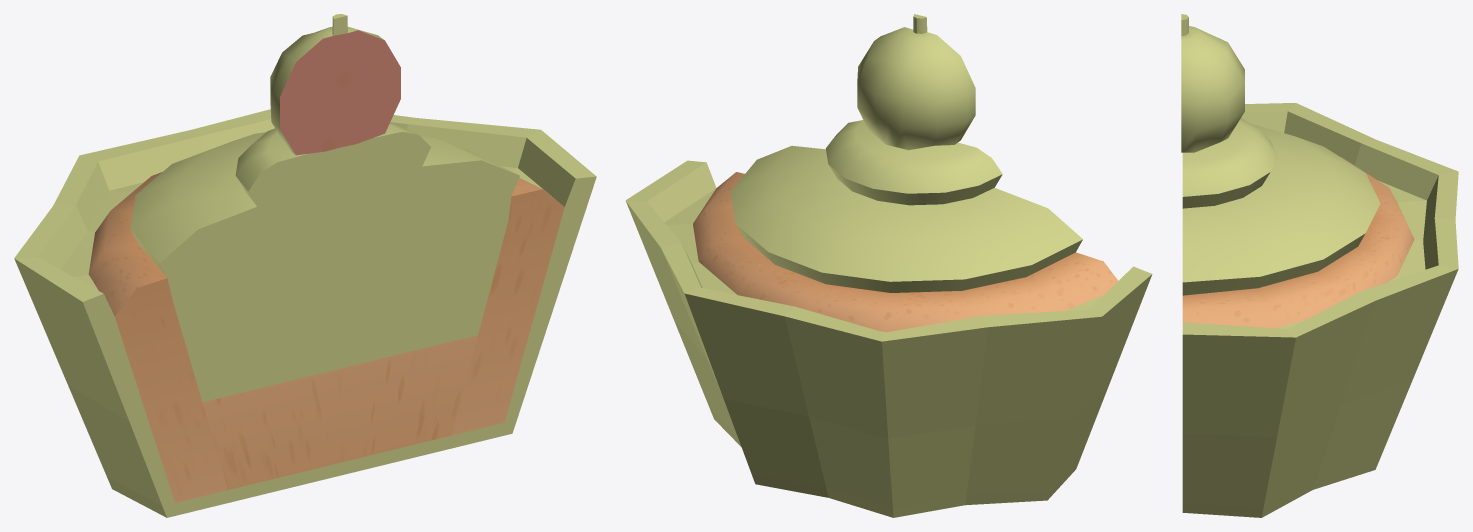
The model's file is cupcake_slice.fbx.
The picture shows the model from 3 angles, left to right: view 1: azimuth 30°, elevation 25°; view 2: azimuth 150°, elevation 25°; view 3: azimuth 270°, elevation 25°; orthographic projection. The views are drawn at different scales.
Parts seen in each view (by area): view 1: cupcake_slice; view 2: cupcake_slice; view 3: cupcake_slice.
Boxes of the visible parts, x1=… form: cupcake_slice: x1=14, y1=14, x2=596, y2=517; cupcake_slice: x1=625, y1=14, x2=1152, y2=517; cupcake_slice: x1=1181, y1=14, x2=1458, y2=517.
Size of the model in its own units: 58.14 by 48.38 by 29.05.
